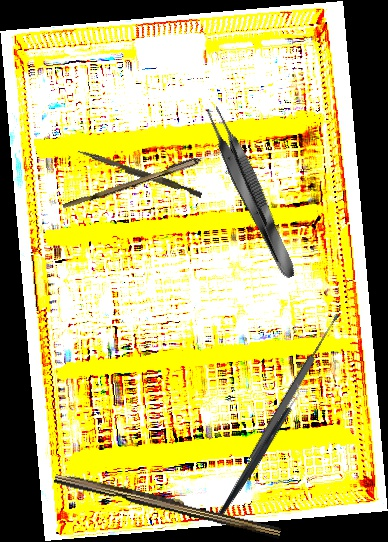Chopper: (180, 381, 336, 520)
Pusher: (75, 148, 204, 199)
Scalpel Handle: (52, 469, 284, 539)
Surgical Spoon: (247, 312, 343, 462), (62, 138, 248, 213)
Tissue Forceps: (199, 103, 303, 283)
